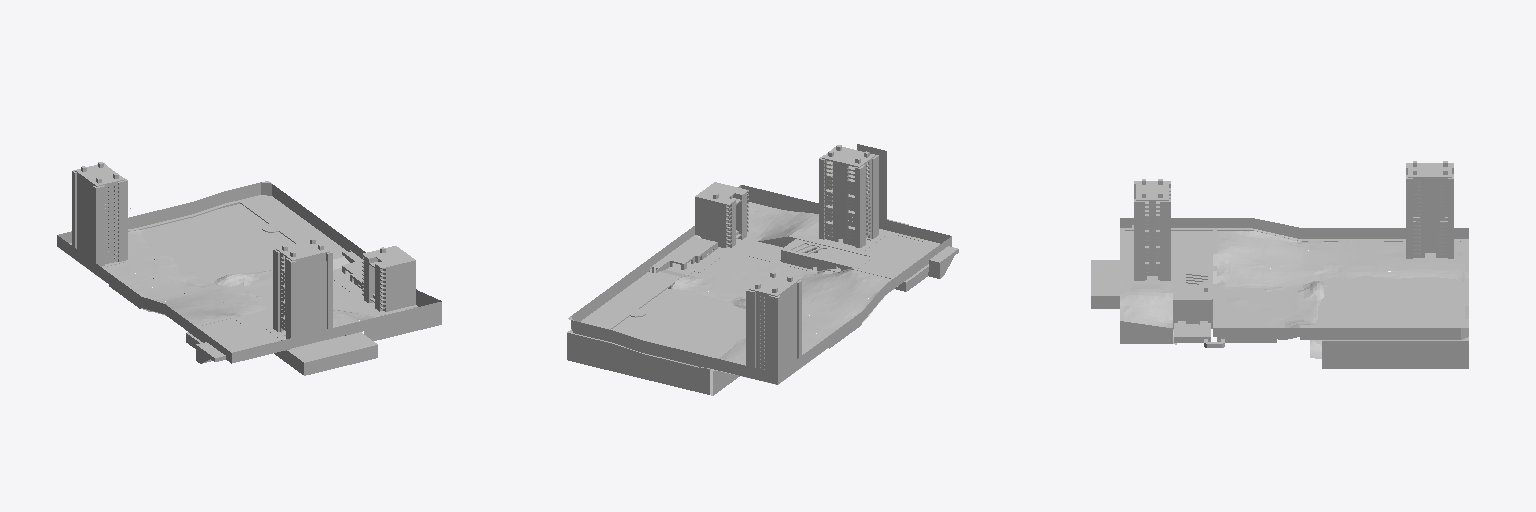
The model's file is gmstrucV2.obj.
3 renders of one model, left to right at view 1: azimuth 30°, elevation 25°; view 2: azimuth 150°, elevation 25°; view 3: azimuth 270°, elevation 25°, orthographic.
Parts seen in each view (by area): view 1: baked_world_geometry_MESH.001; view 2: baked_world_geometry_MESH.001; view 3: baked_world_geometry_MESH.001.
Part boxes in pixels (x1,y1,x2,y2): baked_world_geometry_MESH.001: (57,162,441,375); baked_world_geometry_MESH.001: (567,144,958,395); baked_world_geometry_MESH.001: (1091,161,1468,368).
Bounding box in the file's own units: 149 × 74.98 × 210.